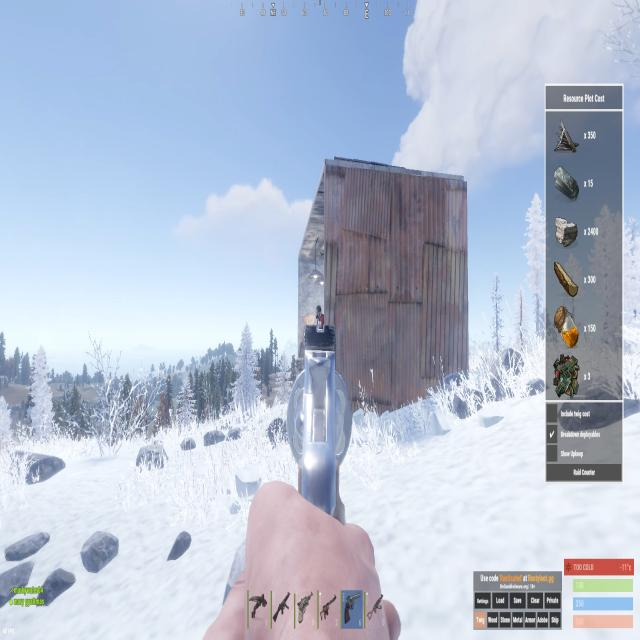Player: (314, 302, 324, 331)
